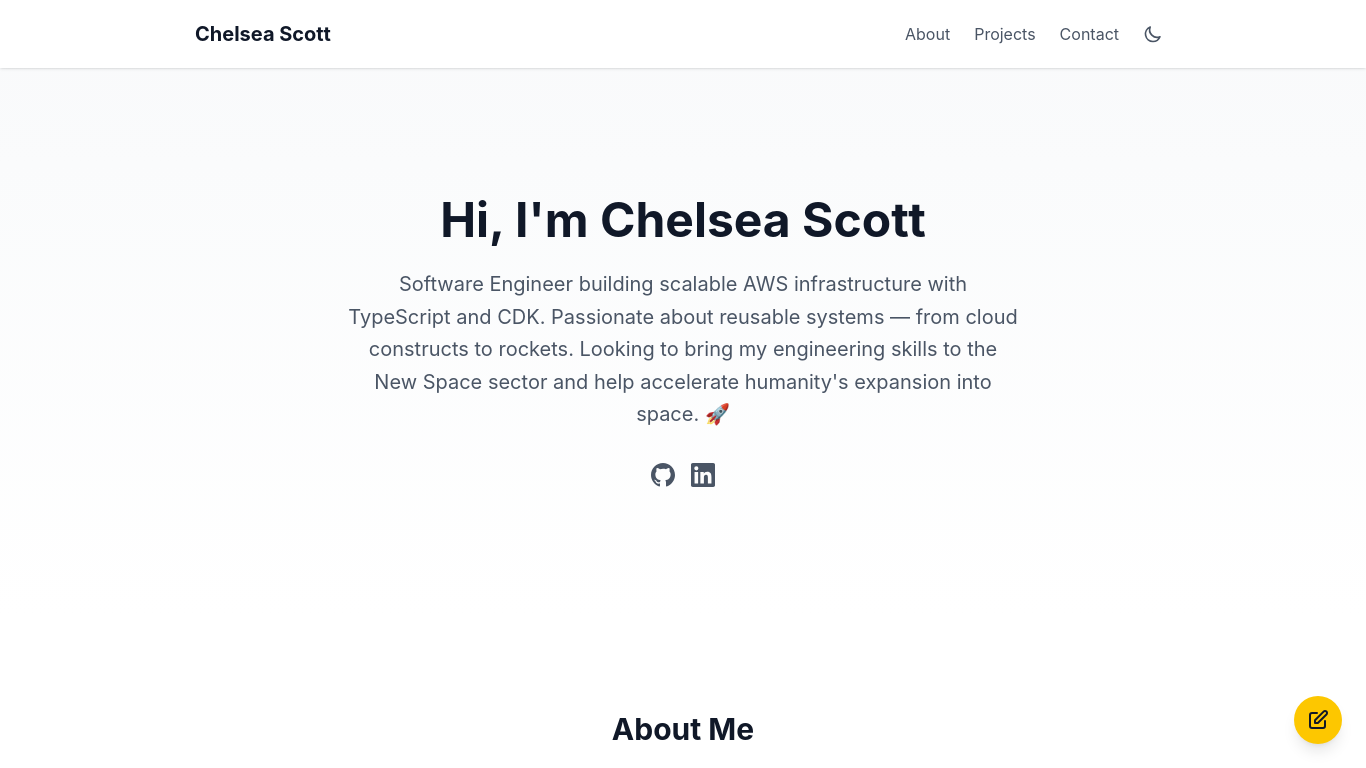
Test: App › loads saved note from localStorage
Click the button named "Open sticky note" at (1318, 720), box 1294,696 -> 1342,744
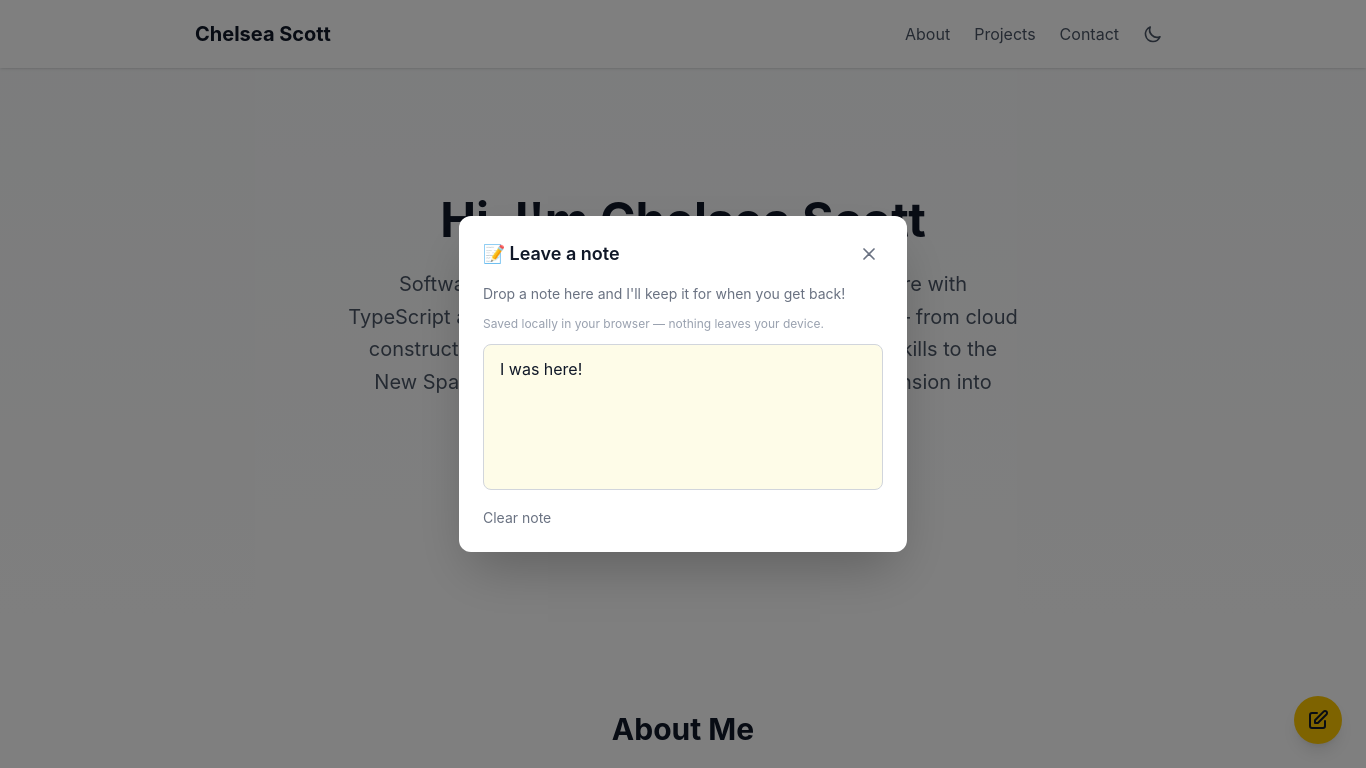
Now the text box named "Your note" holds "I was here!", box 483,344 -> 883,490
